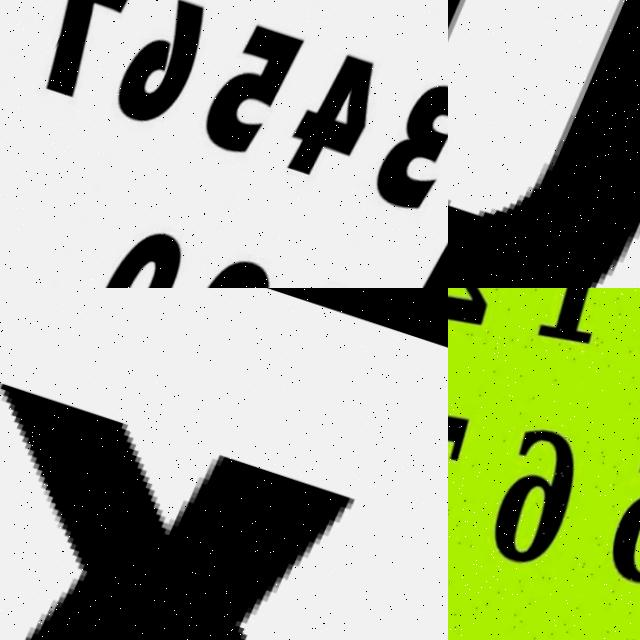0: (77, 209, 217, 288)
1: (506, 288, 640, 366)
2: (448, 288, 548, 351)
3: (357, 51, 448, 230)
4: (269, 29, 422, 211)
5: (185, 3, 329, 178), (581, 423, 640, 605)
6: (453, 376, 635, 594), (100, 0, 245, 144)
7: (10, 0, 152, 116), (448, 363, 512, 570)
9: (163, 244, 298, 288)
U: (448, 0, 640, 288)
X: (0, 368, 448, 640)
